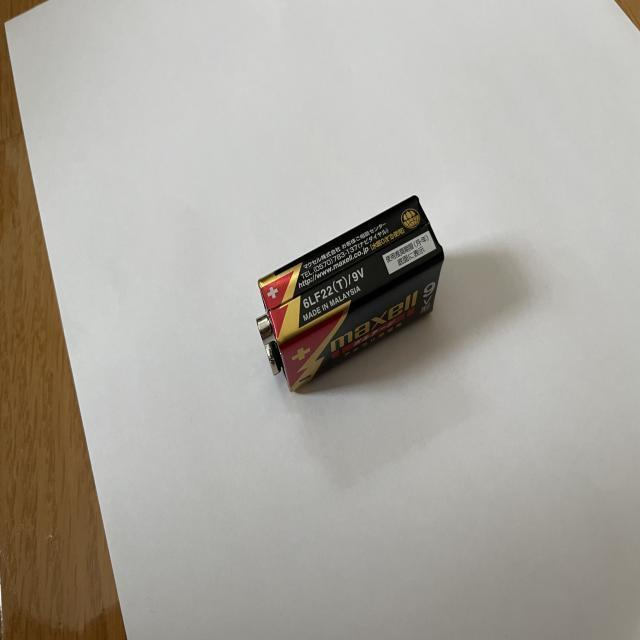9V: (256, 194, 444, 395)
